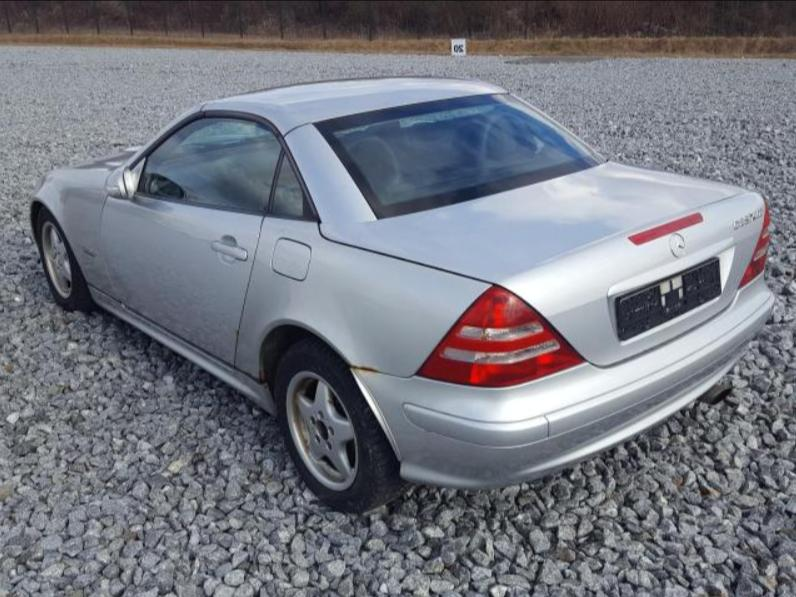Corrosion: (291, 377, 311, 456), (348, 362, 382, 375), (257, 350, 266, 382), (232, 325, 241, 351)
Missing part: (620, 258, 719, 339)
